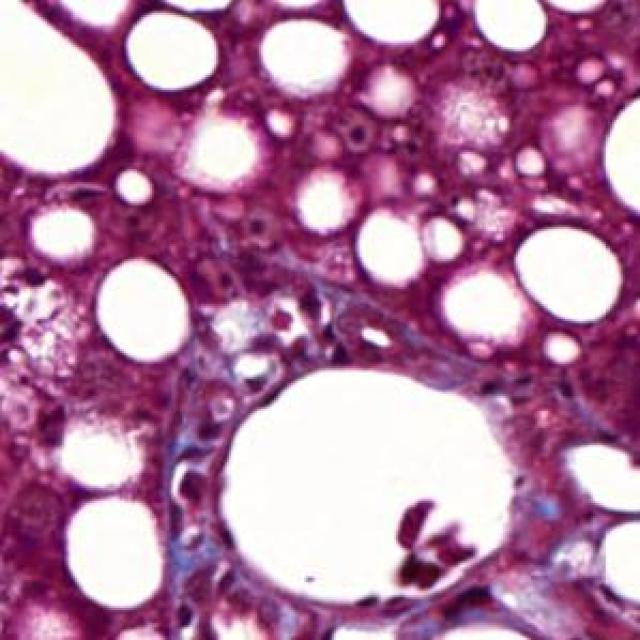steatosis: (518, 220, 623, 334), (88, 252, 192, 358)
